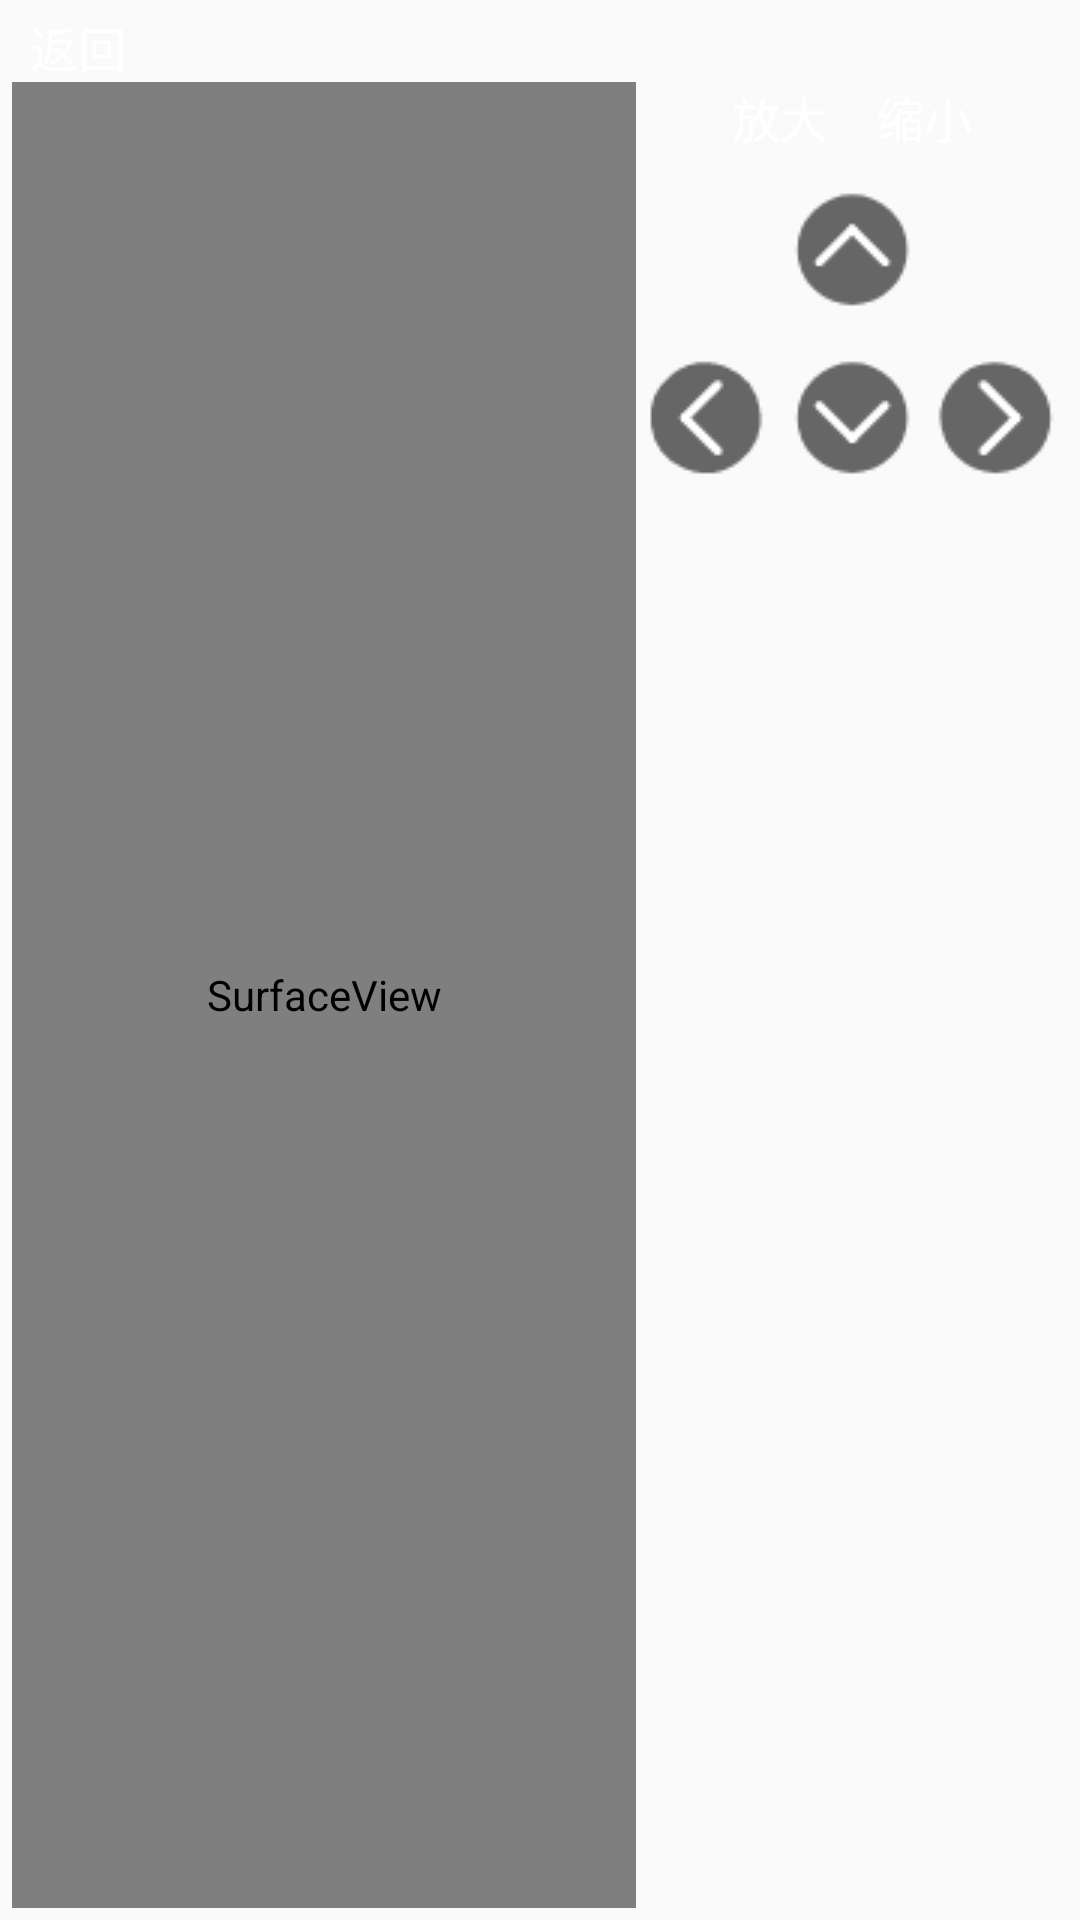

Named icons in this screenshot (1080px x 1920px) and their centers, [x,y]:
video down: [852,417]
video left: [706,417]
video right: [995,417]
video up: [852,249]
